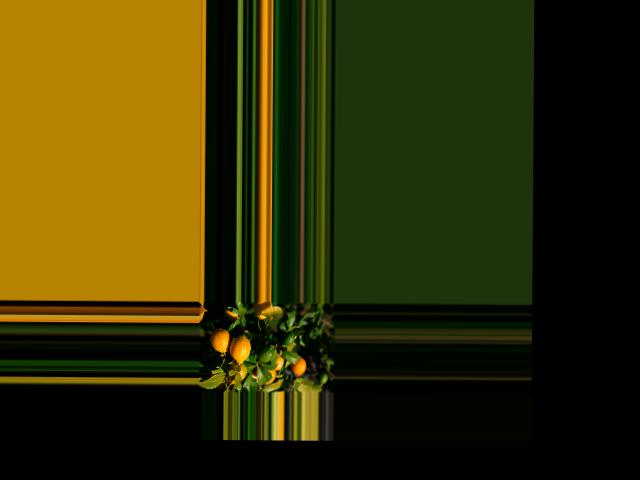lemon: (290, 352, 310, 377)
